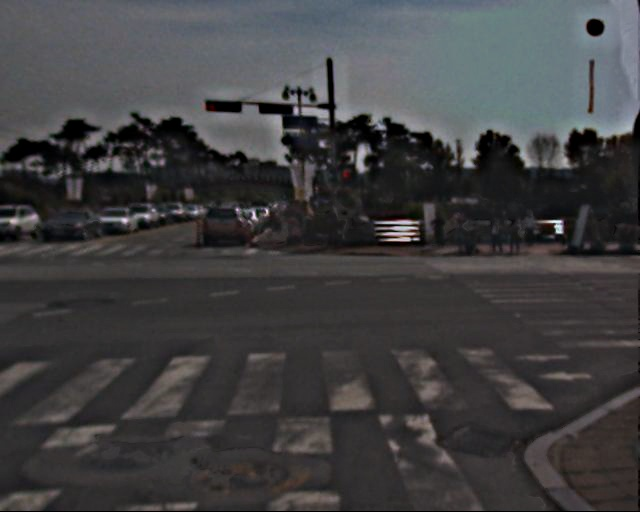person: (267, 202, 311, 242), (457, 208, 477, 257), (510, 213, 530, 259), (324, 204, 343, 251), (521, 208, 539, 252), (488, 216, 506, 260), (433, 209, 450, 251)
